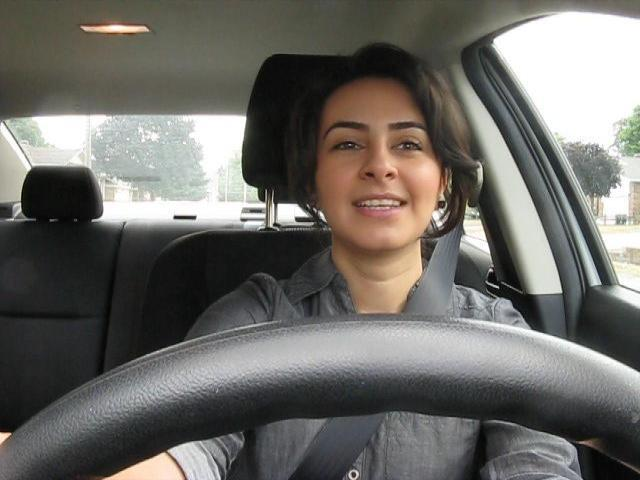eye_open: (391, 133, 432, 159), (330, 134, 366, 155)
face: (320, 96, 440, 251)
